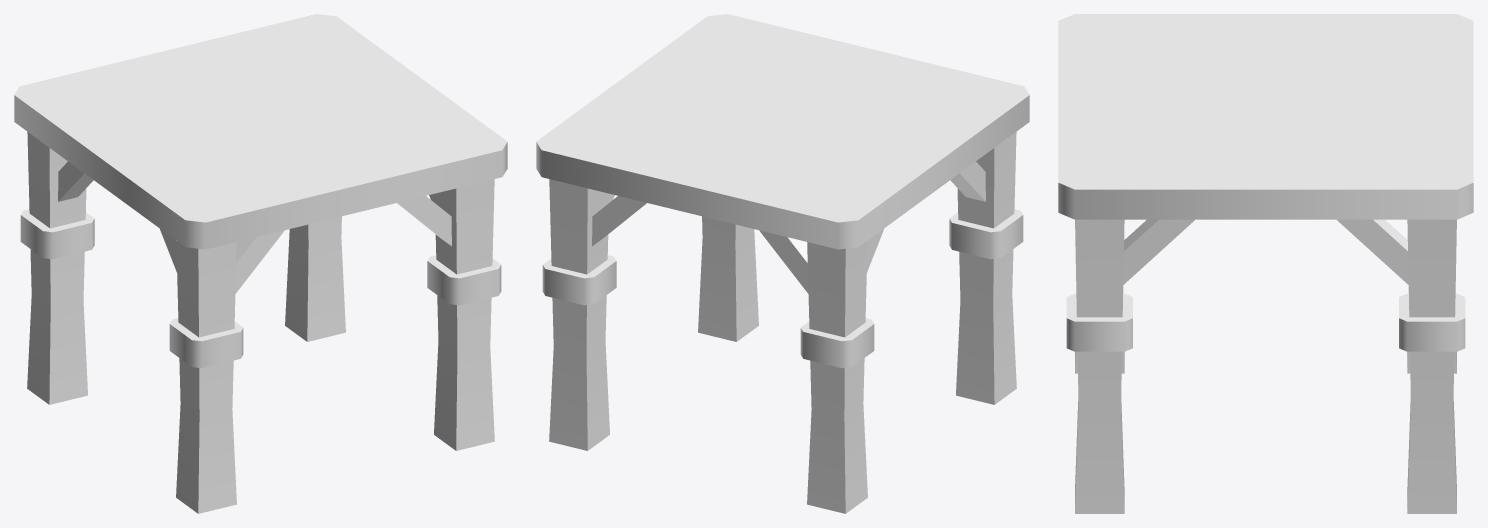
Rendered from structure.glb.
3 renders of one model, left to right at view 1: azimuth 30°, elevation 25°; view 2: azimuth 150°, elevation 25°; view 3: azimuth 270°, elevation 25°, orthographic. The views are drawn at different scales.
Visible parts, largest first — view 1: structure; view 2: structure; view 3: structure.
Part boxes in pixels (x1,y1,x2,y2): structure: (14,14,507,513); structure: (536,14,1029,513); structure: (1058,14,1473,513).
Size of the model in its own units: 2.5 by 2.2 by 2.5.
1 material, 1 textured.
